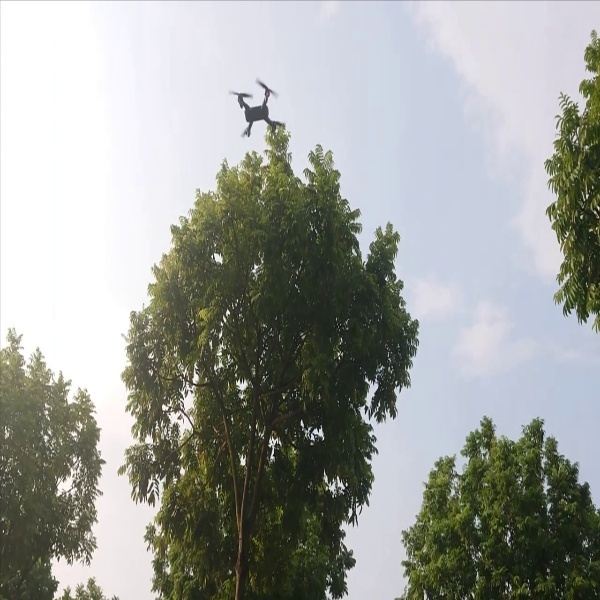drone: (228, 69, 285, 139)
